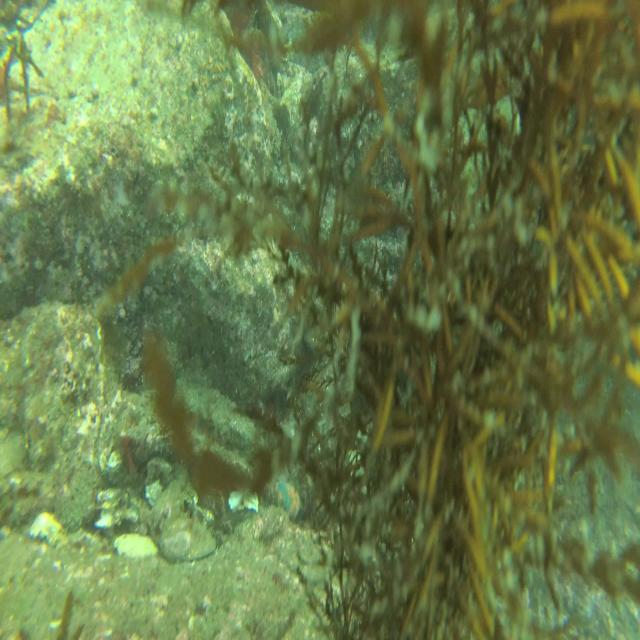starfish: (276, 478, 307, 520)
